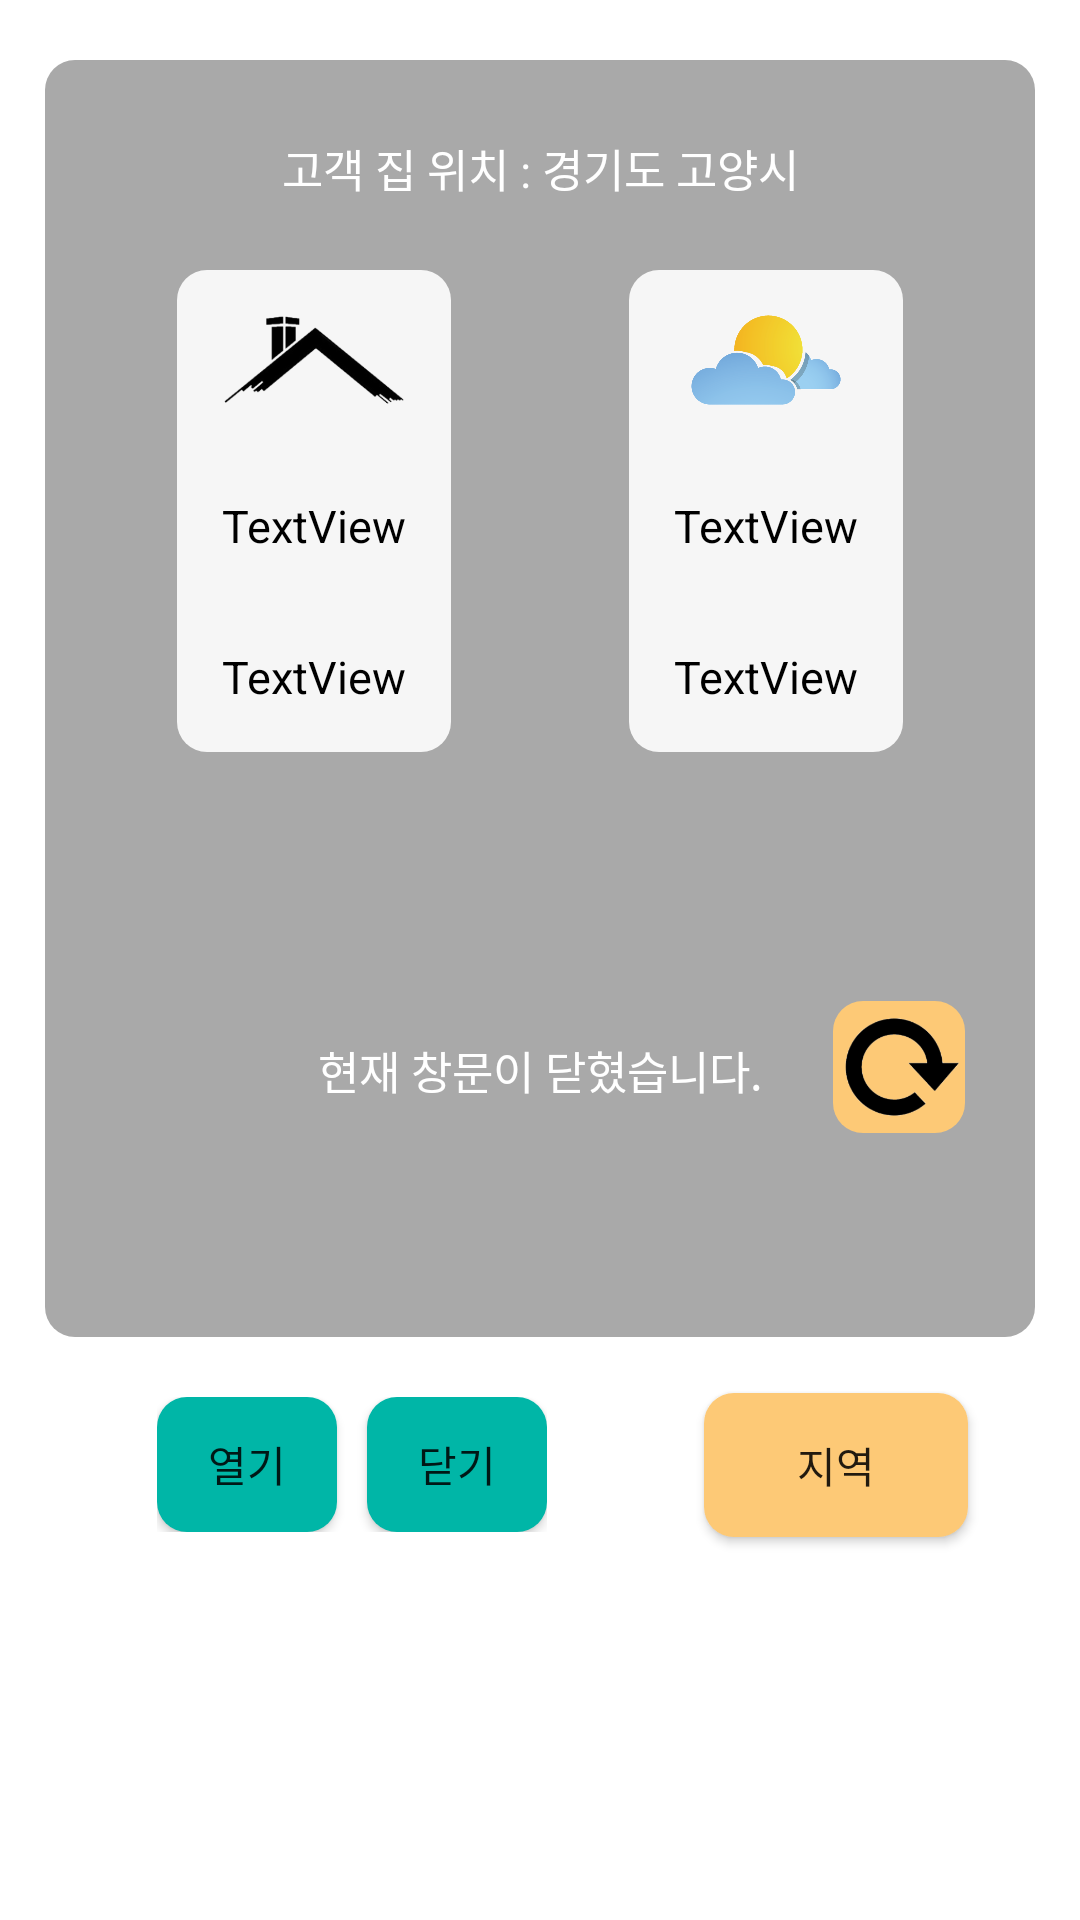

Icons on this 1080*1920 Android screen, each with the point to tap as (x,y):
roof: (314,360)
update: (902,1067)
